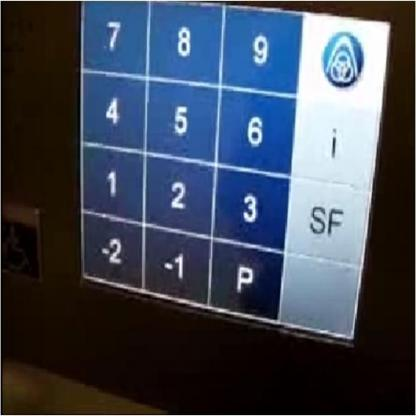-1: (141, 218, 212, 313)
-2: (80, 209, 144, 294)
1: (80, 138, 144, 227)
2: (145, 146, 214, 242)
3: (211, 164, 290, 257)
4: (78, 68, 145, 157)
5: (144, 77, 219, 164)
6: (214, 83, 299, 176)
7: (82, 0, 147, 74)
8: (148, 0, 220, 83)
9: (218, 0, 304, 98)
P: (210, 233, 288, 324)
